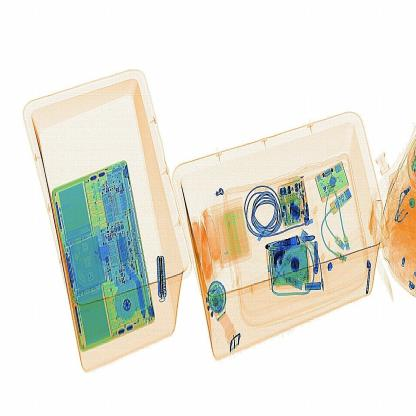scissors: (153, 256, 170, 305)
